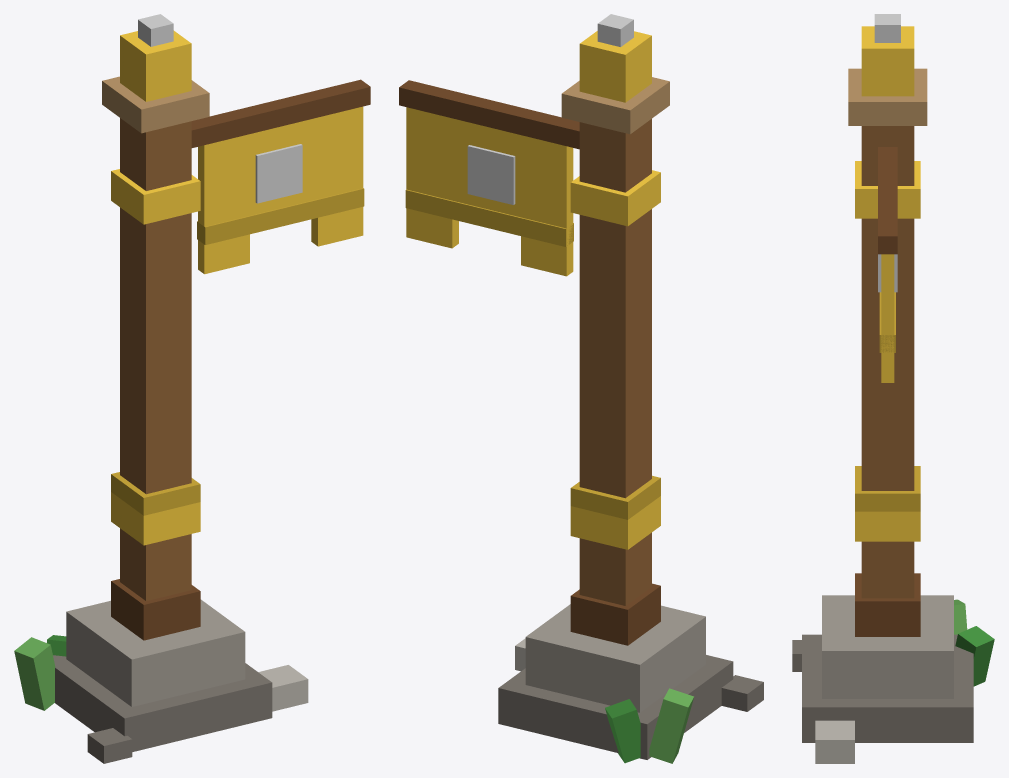
Rendered from territory-marker-bee.glb.
The picture shows the model from 3 angles, left to right: view 1: azimuth 30°, elevation 25°; view 2: azimuth 150°, elevation 25°; view 3: azimuth 270°, elevation 25°; orthographic projection.
Visible parts, largest first — view 1: marker-post, banner; view 2: marker-post, banner; view 3: marker-post, banner.
Part boxes in pixels (left/top/right/bottom): marker-post: left=14, top=14, right=308, bottom=763; banner: left=191, top=79, right=370, bottom=274; marker-post: left=498, top=14, right=763, bottom=763; banner: left=399, top=80, right=579, bottom=276; marker-post: left=792, top=14, right=994, bottom=763; banner: left=878, top=147, right=897, bottom=382.
Bounding box in the file's own units: 0.5581 × 1.15 × 0.3071.
